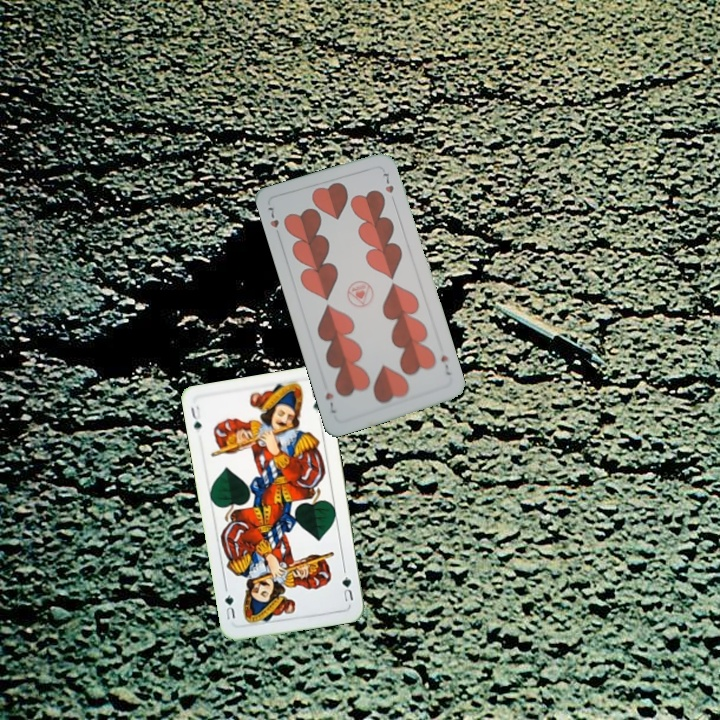GU: (338, 566, 356, 604), (187, 401, 204, 435)
H7: (264, 203, 283, 241), (437, 351, 453, 378)
